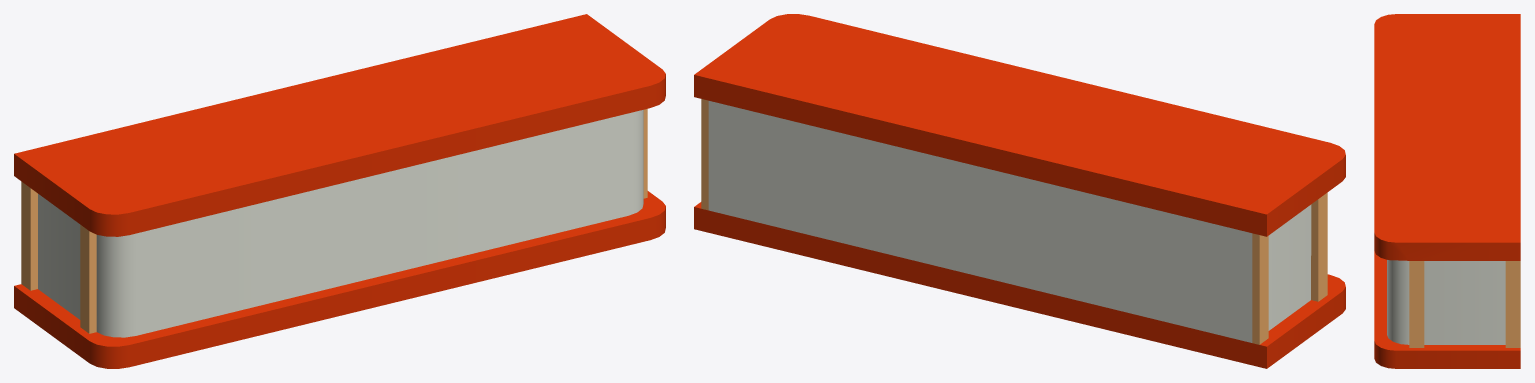
File: TableB5_geo.fbx
3 renders of one model, left to right at view 1: azimuth 30°, elevation 25°; view 2: azimuth 150°, elevation 25°; view 3: azimuth 270°, elevation 25°, orthographic. The views are drawn at different scales.
Parts seen in each view (by area): view 1: TableB4_geo; view 2: TableB4_geo; view 3: TableB4_geo.
Boxes of the visible parts, x1,y1,x2,y2 form: TableB4_geo: (14,14,665,368); TableB4_geo: (694,14,1345,368); TableB4_geo: (1374,14,1520,368).
Size of the model in its own units: 2.64 by 0.7143 by 0.6803.
